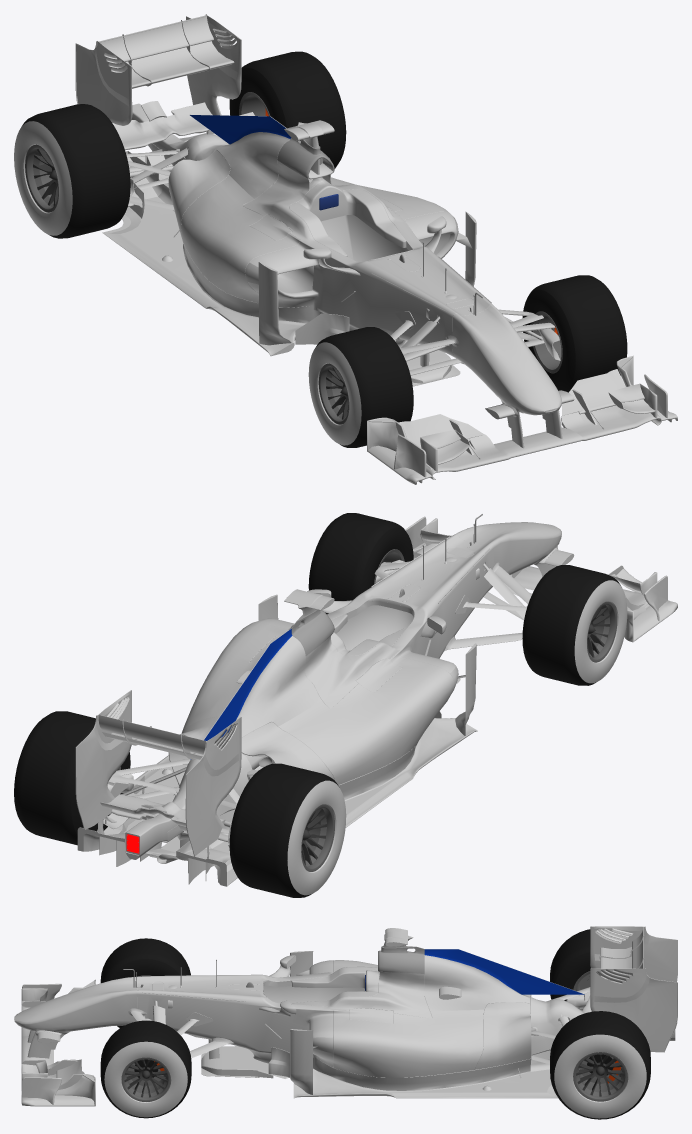
3 views of the same model, one above another, from view 1: azimuth 30°, elevation 25°; view 2: azimuth 150°, elevation 25°; view 3: azimuth 270°, elevation 25° (orthographic). The views are drawn at different scales.
Visible parts, largest first — view 1: Car_0, Car.002_2, Car.001_1; view 2: Car_0, Car.002_2, Car.001_1; view 3: Car_0, Car.002_2, Car.001_1.
Part boxes in pixels (x1,y1,x2,y2): Car_0: [75, 14, 677, 484]; Car.002_2: [14, 51, 346, 238]; Car.001_1: [308, 275, 627, 447]; Car_0: [75, 514, 677, 886]; Car.002_2: [14, 711, 346, 897]; Car.001_1: [308, 513, 627, 685]; Car_0: [14, 926, 677, 1106]; Car.002_2: [550, 929, 650, 1119]; Car.001_1: [100, 938, 191, 1118].
Size of the model in its own units: 1.86 by 1.09 by 4.85.
